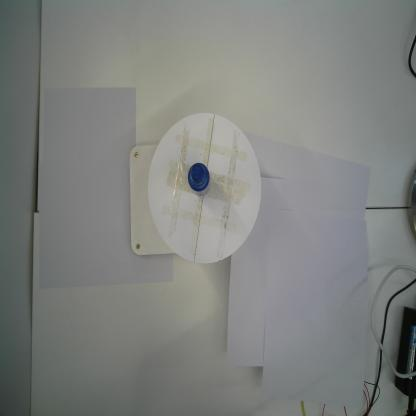Personal Hygiene: (186, 160, 212, 201)
